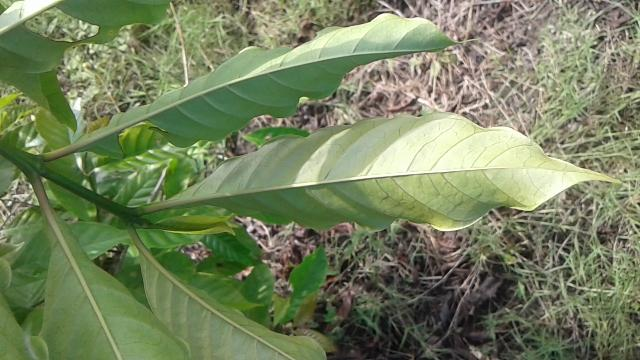healthy: (140, 108, 634, 236)
